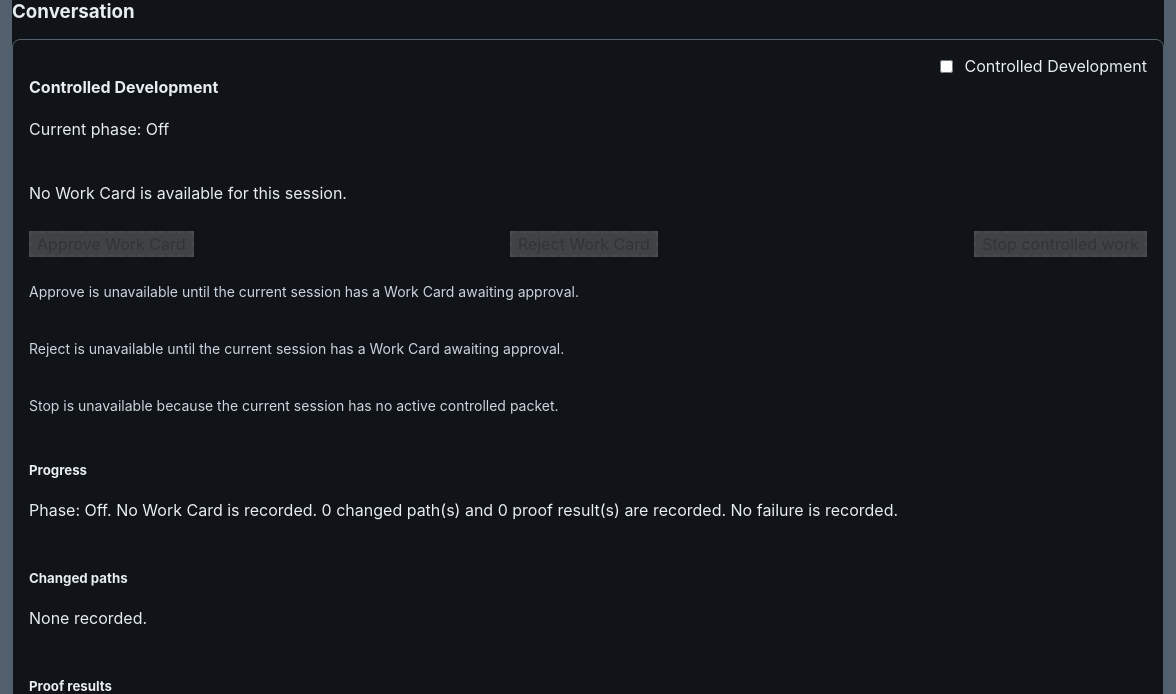
Test: keeps a rejected controlled action visible next to the panel
This screenshot has width=1176, height=694.
Click the switch labelled "Controlled Development": (947, 66) [940,60,953,72]
(page scrolled)
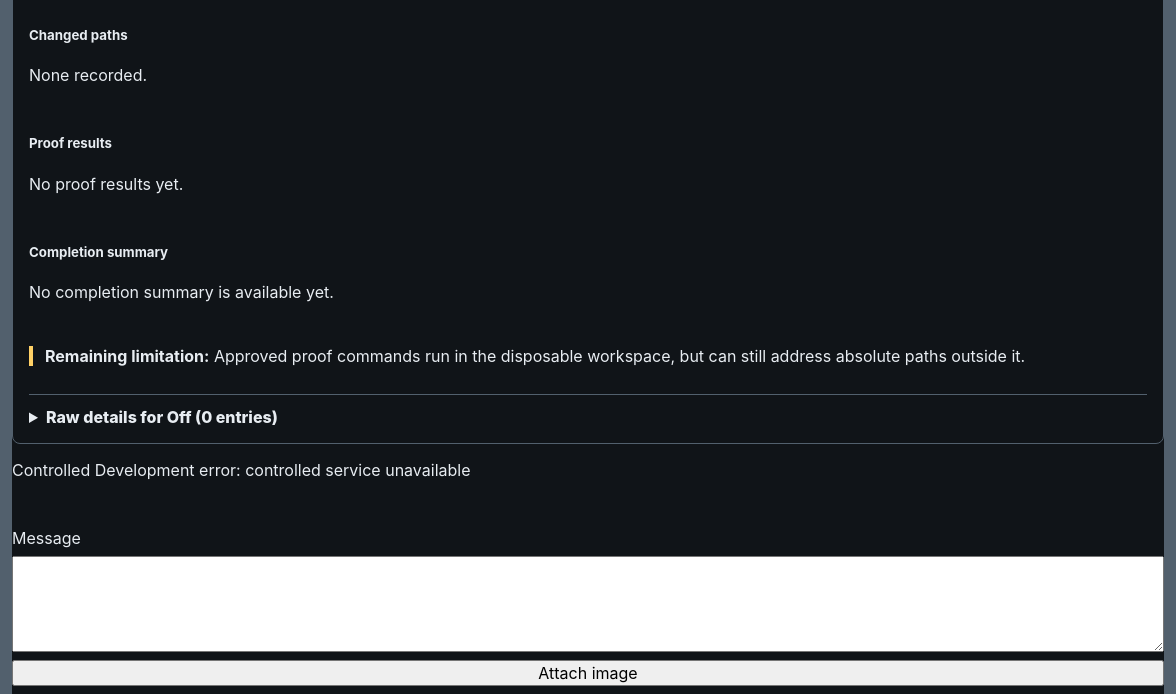
Result: the message shows "controlled service unavailable" at [245,460,470,480]
